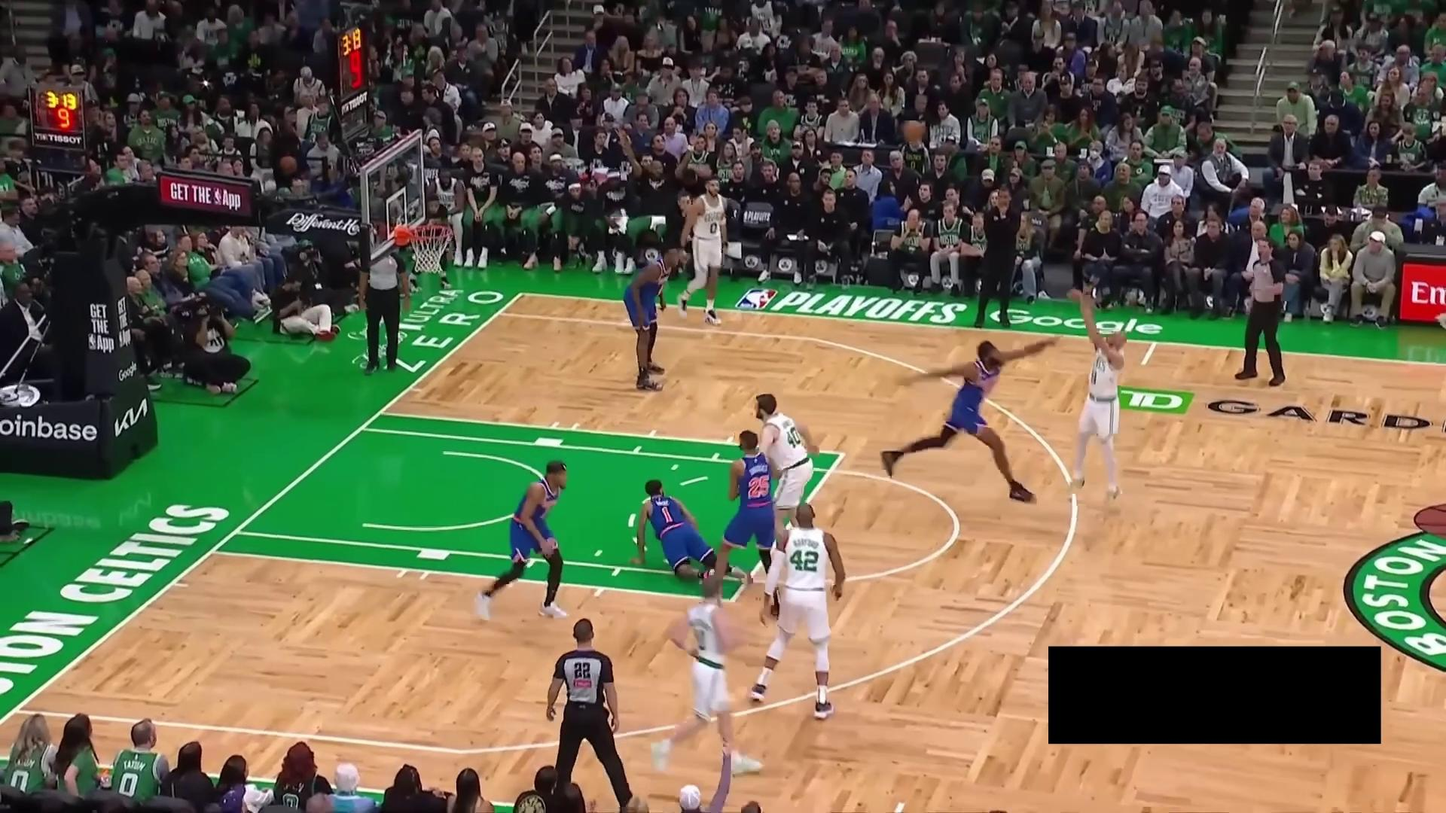ball: (901, 118, 926, 142)
number: (789, 548, 819, 574), (746, 473, 771, 499), (785, 423, 803, 453), (660, 504, 677, 526), (709, 222, 718, 234)
player: (879, 327, 1068, 509), (648, 570, 770, 776), (748, 502, 852, 719), (475, 454, 577, 623), (632, 476, 756, 598), (703, 429, 786, 609), (747, 389, 822, 569), (617, 243, 687, 392), (675, 173, 732, 329)
player-jump-shot: (1048, 280, 1138, 512)
referee: (539, 615, 636, 813), (1231, 234, 1292, 392), (354, 235, 418, 377)
rim: (410, 222, 455, 244)
